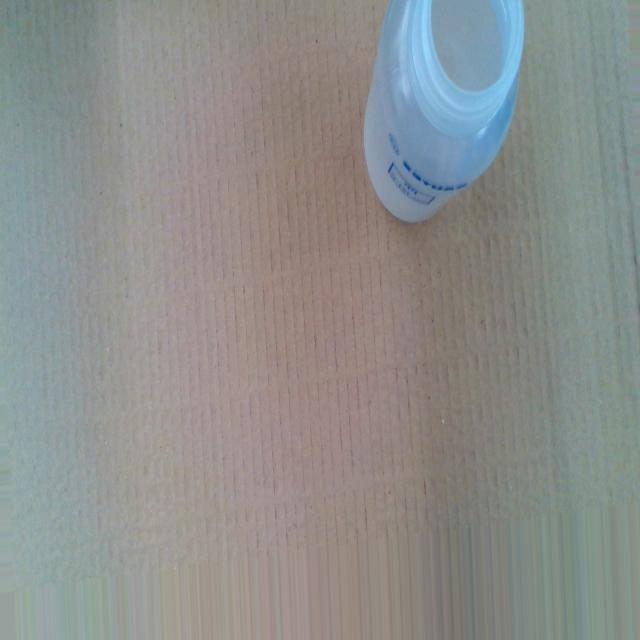bottle: (360, 0, 527, 229)
